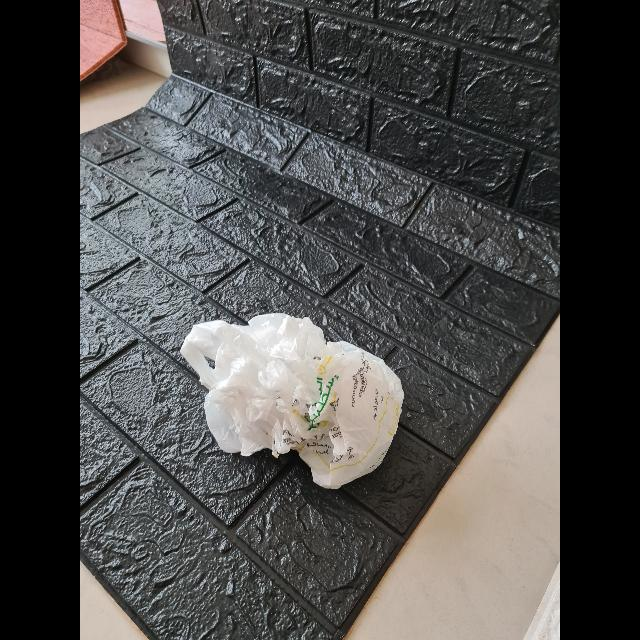plastic_bag: (185, 316, 402, 492)
